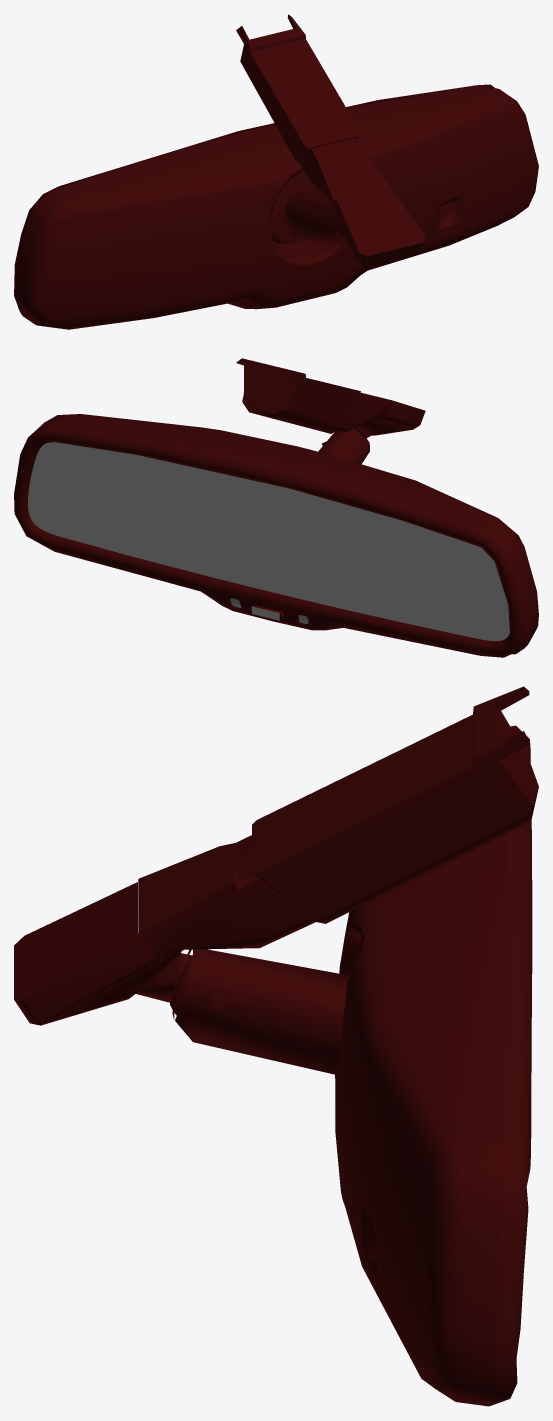
File: TOYOTA_URBAN_CRUISER_PRE_IN_ROOF_FLOOR_IRVM_MESH.glb
3 views of the same model, one above another, from view 1: azimuth 30°, elevation 25°; view 2: azimuth 150°, elevation 25°; view 3: azimuth 270°, elevation 25° (orthographic). The views are drawn at different scales.
Parts seen in each view (by area): view 1: TOYOTA_URBAN_CRUISER_PRE_IN_ROOF_FLOOR_IRVM_MESH; view 2: TOYOTA_URBAN_CRUISER_PRE_IN_ROOF_FLOOR_IRVM_MESH; view 3: TOYOTA_URBAN_CRUISER_PRE_IN_ROOF_FLOOR_IRVM_MESH.
Boxes of the visible parts, x1,y1,x2,y2 form: TOYOTA_URBAN_CRUISER_PRE_IN_ROOF_FLOOR_IRVM_MESH: (14, 14, 538, 329); TOYOTA_URBAN_CRUISER_PRE_IN_ROOF_FLOOR_IRVM_MESH: (14, 358, 538, 657); TOYOTA_URBAN_CRUISER_PRE_IN_ROOF_FLOOR_IRVM_MESH: (14, 686, 538, 1406).
Size of the model in its own units: 0.2689 by 0.1315 by 0.1211.
